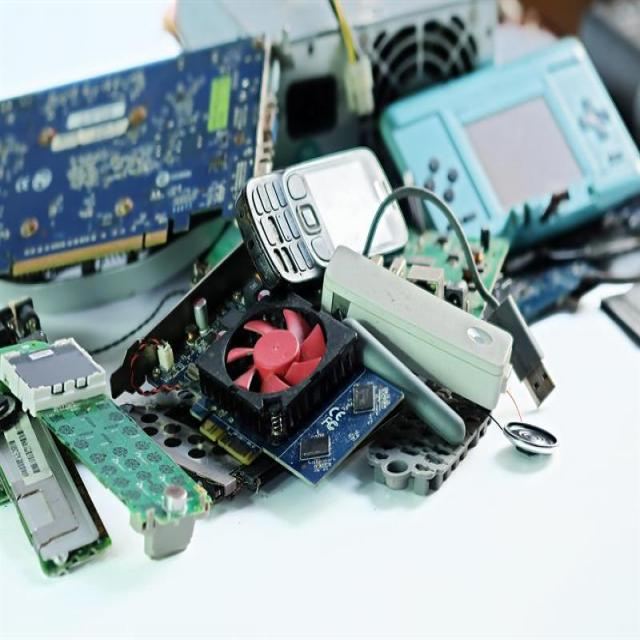hazard: (0, 0, 635, 549)
